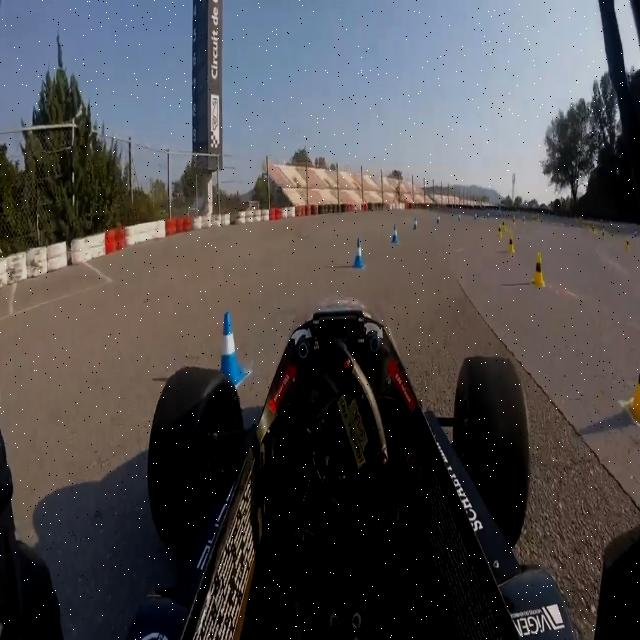blue_cone: (210, 310, 248, 390), (351, 237, 365, 271), (391, 223, 399, 246), (412, 218, 418, 232), (436, 213, 440, 224), (458, 212, 462, 222), (473, 212, 478, 220), (487, 212, 490, 220)
yellow_cone: (627, 348, 640, 424), (531, 250, 545, 288), (508, 232, 516, 255), (497, 223, 503, 241), (624, 239, 630, 253), (501, 219, 507, 232), (602, 230, 606, 242), (512, 216, 516, 228)
